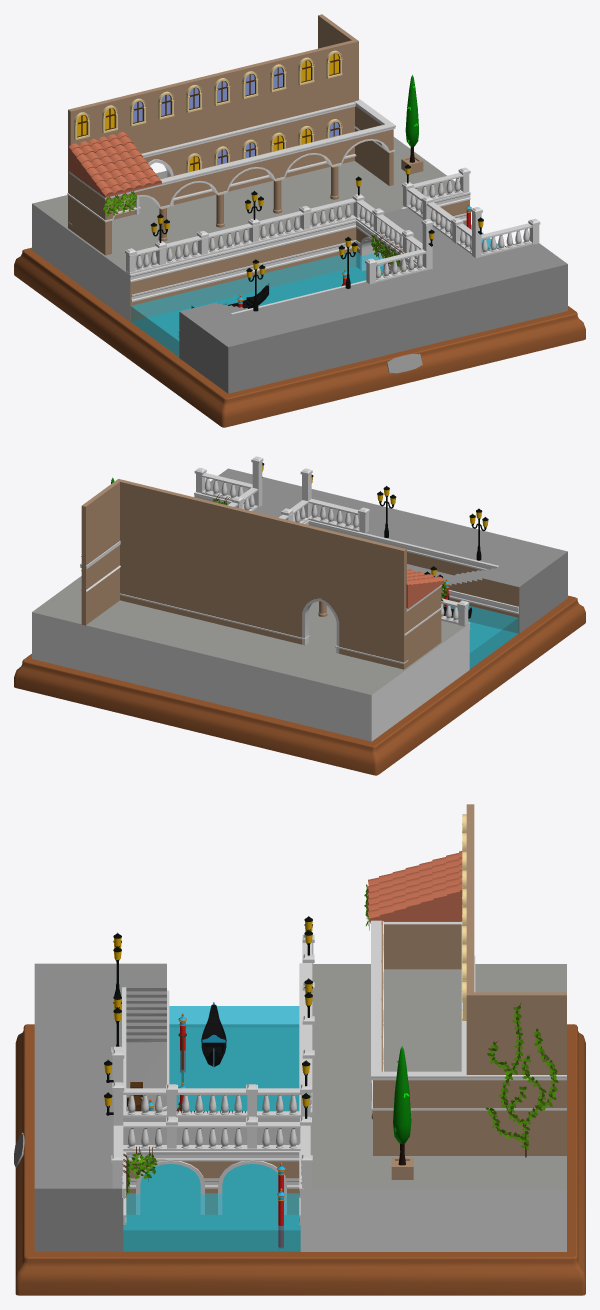
File: level_1_night.FBX
3 views of the same model, one above another, from view 1: azimuth 30°, elevation 25°; view 2: azimuth 150°, elevation 25°; view 3: azimuth 270°, elevation 25° (orthographic). The views are drawn at different scales.
Visible parts, largest first — view 1: level_1_nacht; view 2: level_1_nacht; view 3: level_1_nacht.
Boxes of the visible parts, box(x1,y1,x2,y2) form: level_1_nacht: box(14, 14, 585, 427); level_1_nacht: box(14, 456, 585, 775); level_1_nacht: box(14, 804, 585, 1295).
Size of the model in its own units: 132 by 66.38 by 132.
